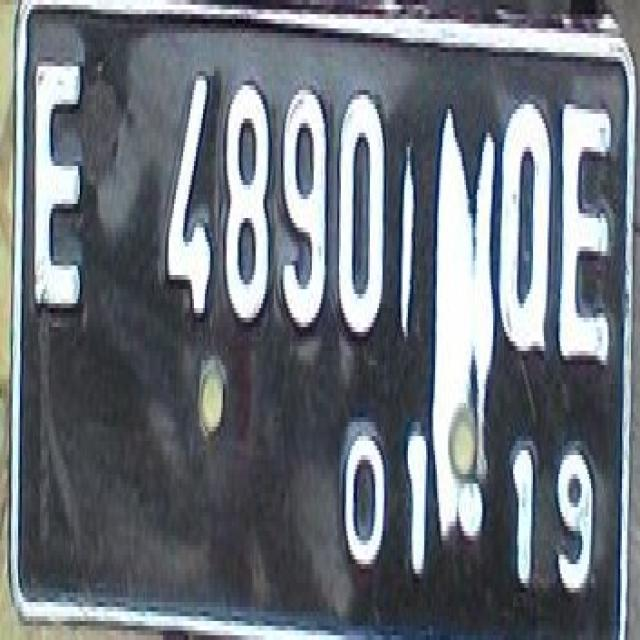plate: (12, 0, 626, 631)
